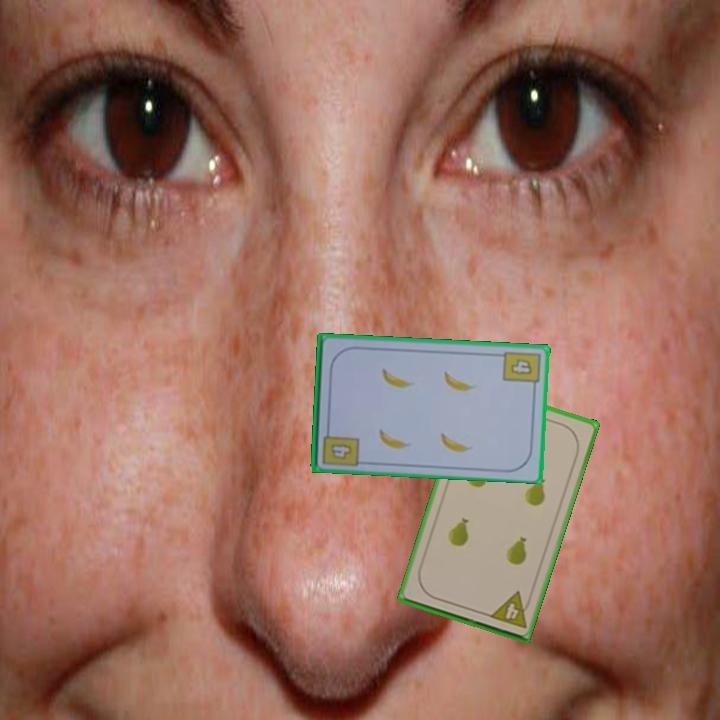4b: (499, 347, 543, 392), (319, 423, 361, 469)
4p: (486, 588, 534, 631)
